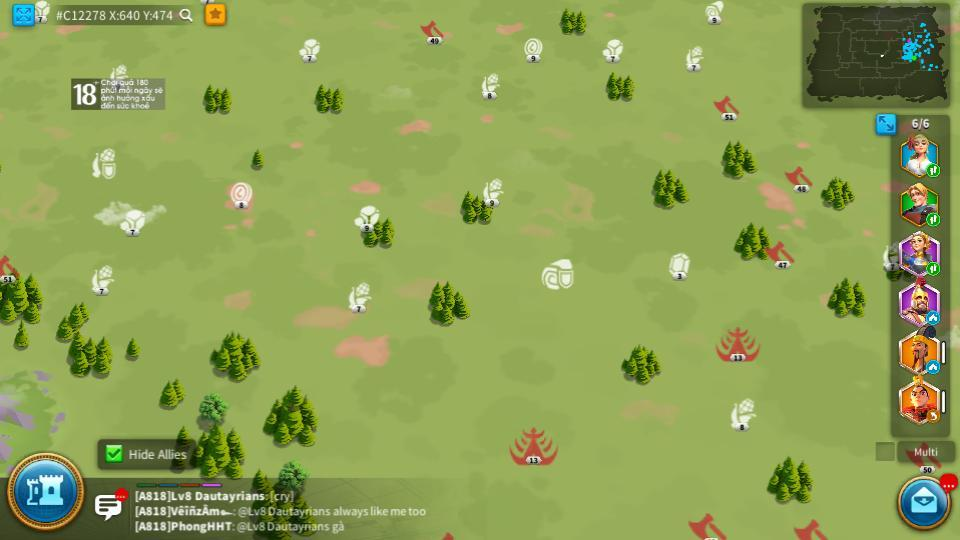gem-z-out: (668, 255, 690, 279)
march_idle: (927, 312, 940, 324), (926, 362, 940, 373)
march_marching: (927, 163, 939, 176), (927, 262, 940, 274), (927, 216, 940, 227)
march_returning: (926, 411, 940, 422)
